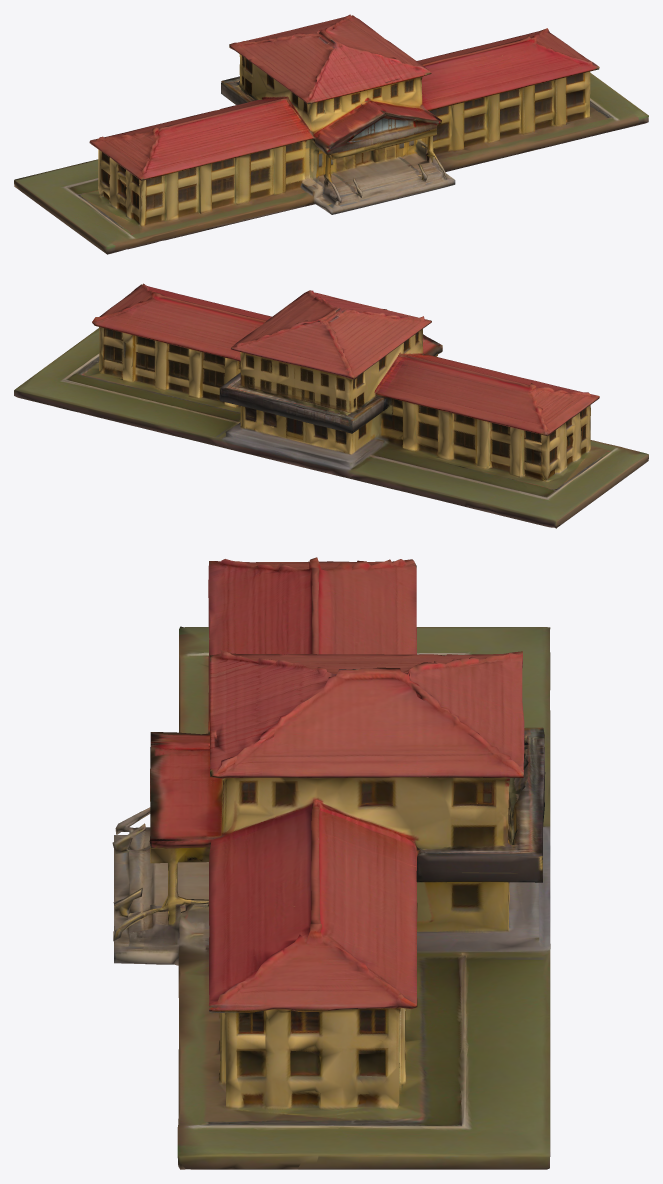
3 renders of one model, top to bottom at view 1: azimuth 30°, elevation 25°; view 2: azimuth 150°, elevation 25°; view 3: azimuth 270°, elevation 25°, orthographic. The views are drawn at different scales.
Visible parts, largest first — view 1: Mesh_0; view 2: Mesh_0; view 3: Mesh_0.
Part boxes in pixels (box(x1,y1,x2,y2)): Mesh_0: box(14, 14, 648, 254); Mesh_0: box(14, 283, 648, 528); Mesh_0: box(112, 557, 550, 1169).
Bounding box in the file's own units: 2 × 0.4175 × 0.7007.
1 material, 1 textured.
